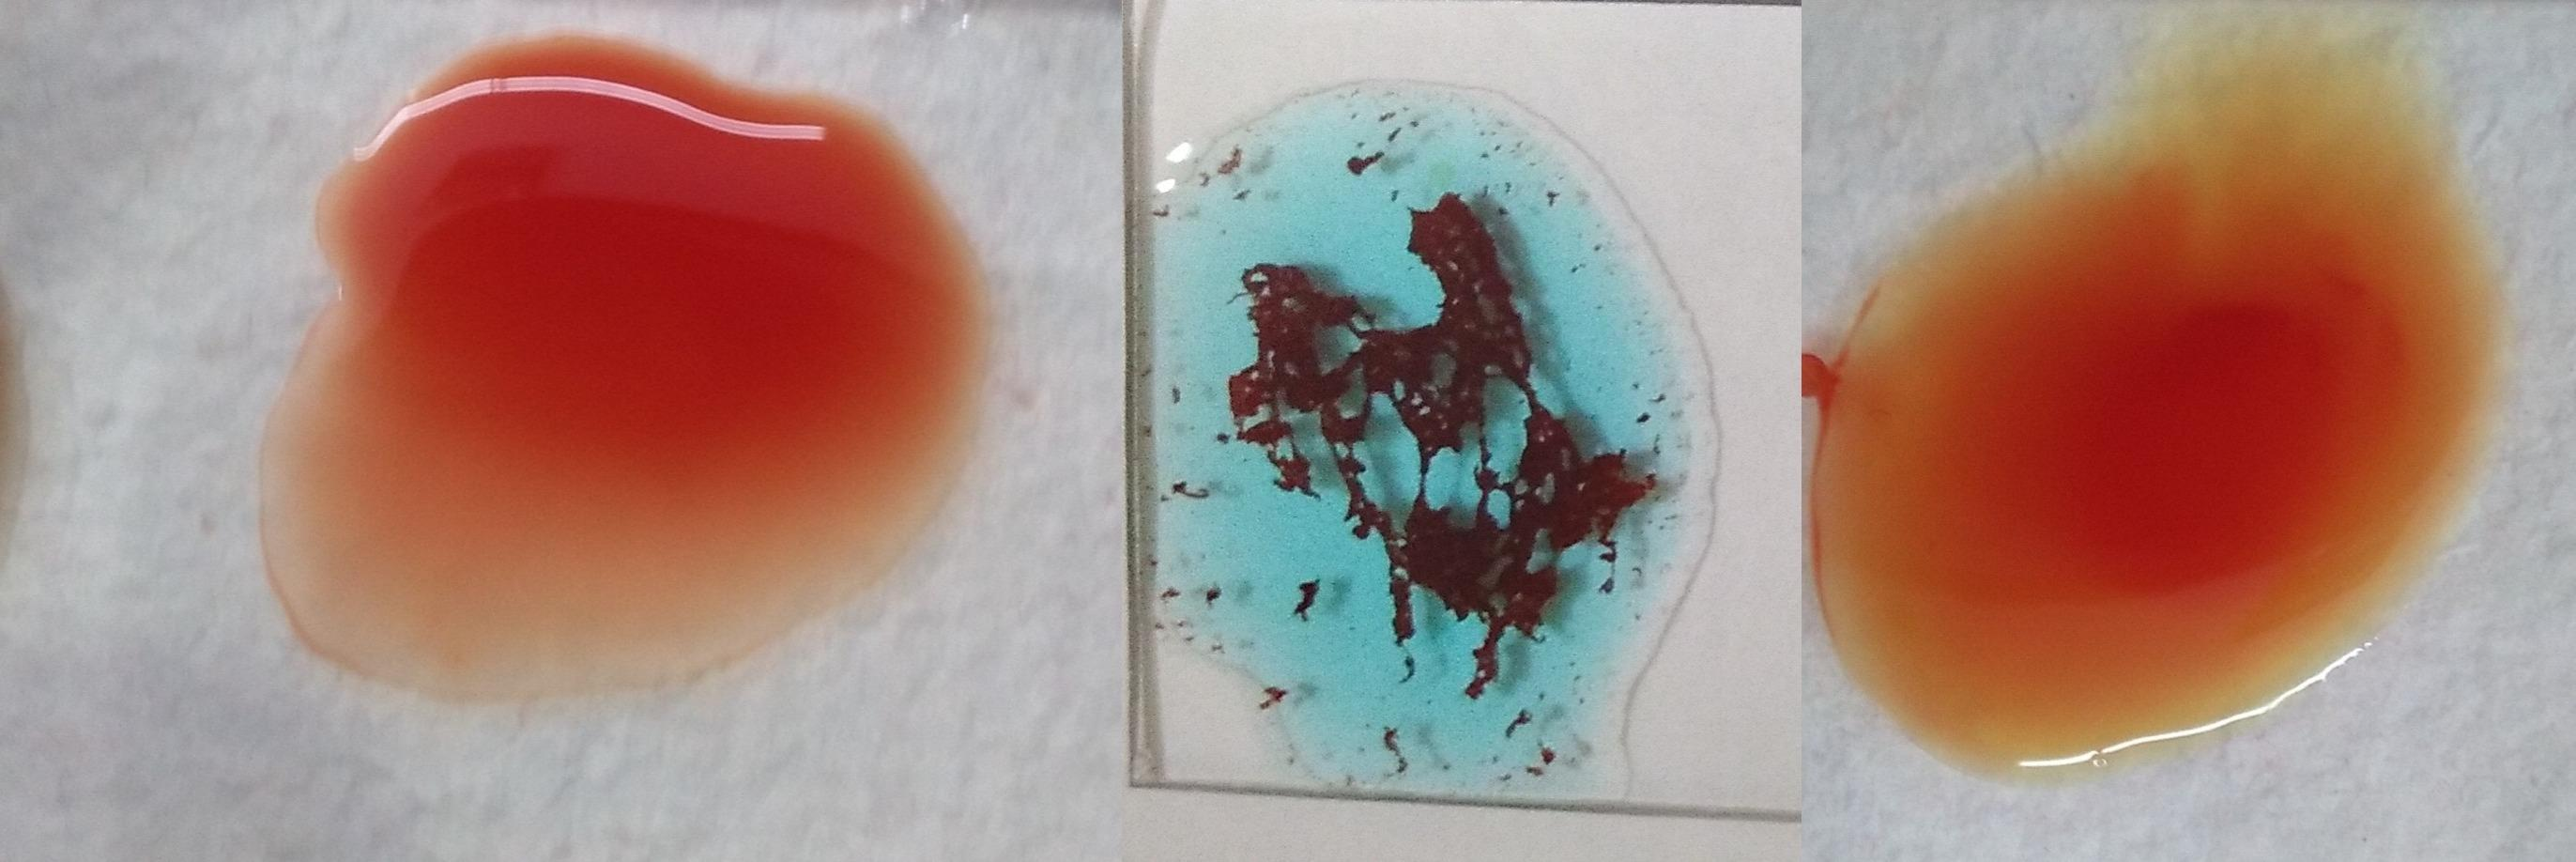A: (1138, 82, 1736, 778)
